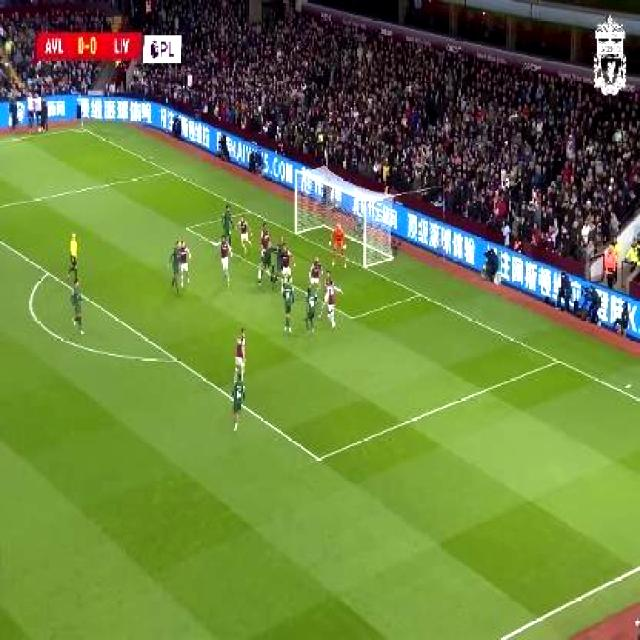bigarea_bottom_inner: (311, 446, 326, 471)
bigarea_bottom_outter: (550, 352, 562, 368)
bigarea_top_outter: (163, 164, 171, 176)
bottom_arc_area_intersection: (169, 351, 182, 369)
corner: (74, 125, 85, 132)
smallarea_bottom_inner: (346, 308, 359, 326)
smallarea_bottom_outter: (412, 284, 425, 302)
smallarea_top_inner: (183, 221, 192, 234)
smallarea_top_outter: (242, 205, 252, 217)
top_arc_area_intersection: (43, 266, 52, 279)
